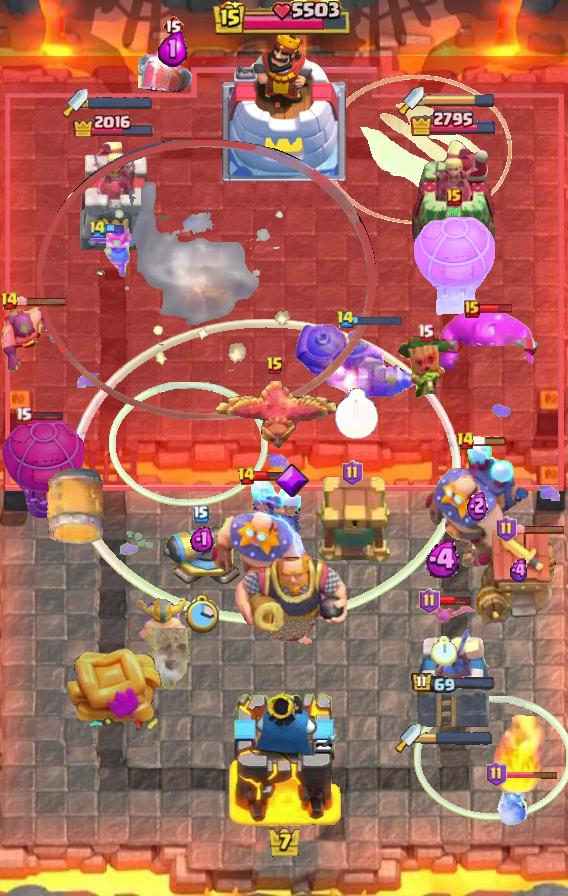bar: (409, 138, 497, 256), (73, 140, 155, 256), (414, 623, 492, 731)
barbarian: (412, 599, 476, 625)
bomb: (313, 476, 391, 564)
cannon-cart: (410, 210, 498, 318), (0, 413, 86, 521)
clock: (213, 0, 355, 38)
clone: (430, 309, 542, 375)
dirt: (45, 467, 113, 547)
electro-spirit: (424, 541, 463, 579), (158, 29, 188, 66), (467, 489, 488, 521), (191, 524, 214, 551), (509, 558, 532, 583)
elixir: (334, 388, 379, 440), (185, 593, 220, 635), (431, 636, 457, 666)
emote: (352, 314, 404, 326), (16, 297, 68, 308), (514, 525, 566, 536), (505, 769, 559, 778), (472, 435, 508, 447), (478, 302, 513, 314), (437, 595, 472, 607), (253, 470, 287, 482), (28, 411, 64, 422), (106, 222, 125, 233)
fisherman: (140, 627, 194, 693)
giant-skeleton: (233, 547, 349, 647)
goblin-barrel: (396, 336, 454, 402)
goblin-giant: (135, 598, 191, 652)
hog-rider: (88, 225, 136, 279)
ice-golem: (496, 775, 530, 827)
ice-wizard: (322, 76, 512, 225)
king-tower: (222, 31, 346, 181), (226, 688, 342, 826)
king-tower-bar: (424, 93, 496, 107), (421, 731, 493, 745), (88, 97, 152, 109)
little-prince: (423, 437, 531, 571), (207, 473, 313, 601)
monk: (0, 304, 54, 374)
mortar-evolution: (138, 39, 208, 97)
mother-witch: (213, 381, 337, 455)
royal-ghost: (36, 140, 375, 420)
royal-recruit: (160, 524, 242, 594)
selected: (410, 108, 499, 136), (72, 111, 156, 137), (412, 672, 497, 696)
skeleton-king-skill: (274, 463, 310, 499)
sparky: (476, 529, 562, 627)
text: (495, 516, 517, 542), (341, 460, 362, 486), (419, 588, 440, 614), (485, 761, 506, 787), (162, 14, 184, 38), (88, 217, 108, 238), (1, 291, 20, 311), (457, 431, 476, 451), (237, 466, 256, 486), (336, 311, 356, 329), (266, 356, 284, 376), (417, 323, 435, 342), (16, 407, 33, 426), (446, 188, 462, 206), (464, 300, 480, 318), (193, 505, 209, 523)
valkyrie: (487, 712, 545, 798)
wizard: (294, 323, 418, 401)
